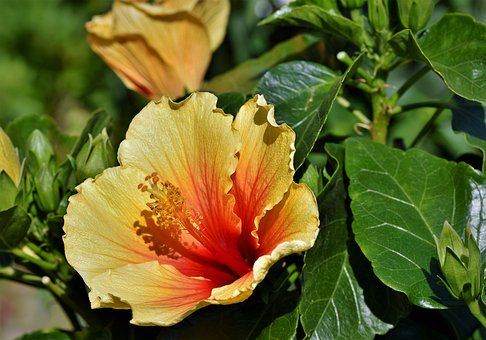Hibiscus: (49, 83, 314, 323), (76, 5, 253, 103), (416, 192, 485, 323)
